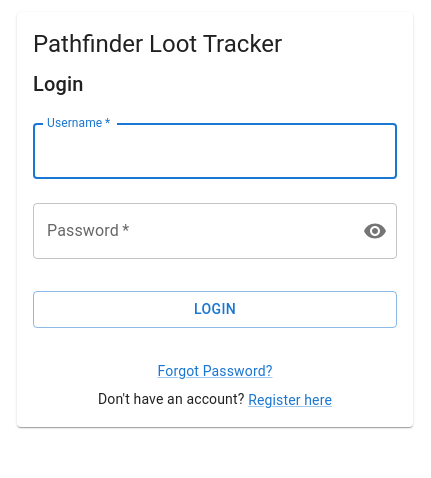
Test: Login › shows error when submitting with empty fields
This screenshot has width=431, height=478.
Step 1. Click the button "Login" → (215, 310), box [33, 291, 397, 328]
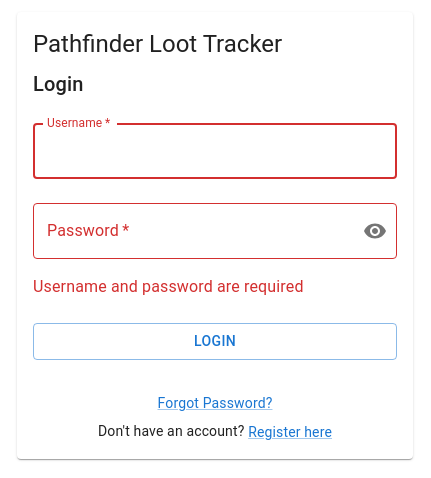
Expected: the message reads "Username and password are required", [33, 277, 304, 296]
